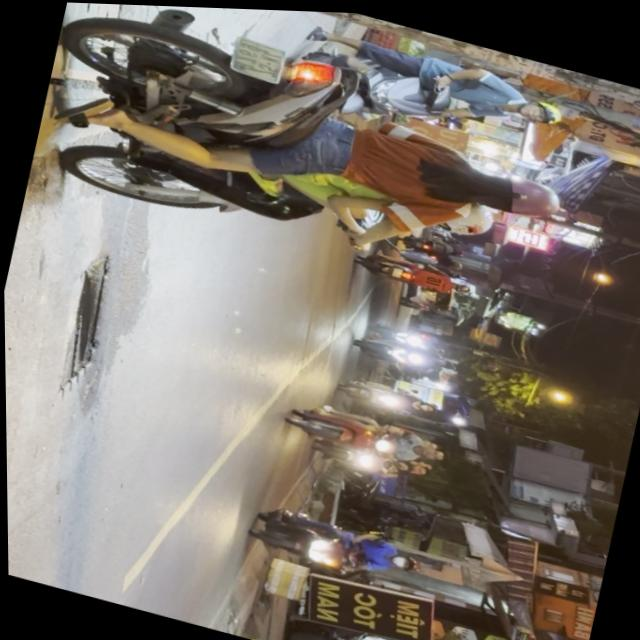helmet: (468, 160, 563, 224), (513, 91, 563, 125), (389, 551, 422, 573)
licenseplate: (25, 1, 589, 310), (241, 497, 427, 593), (280, 392, 451, 475)
nohelmet: (231, 34, 285, 82)
